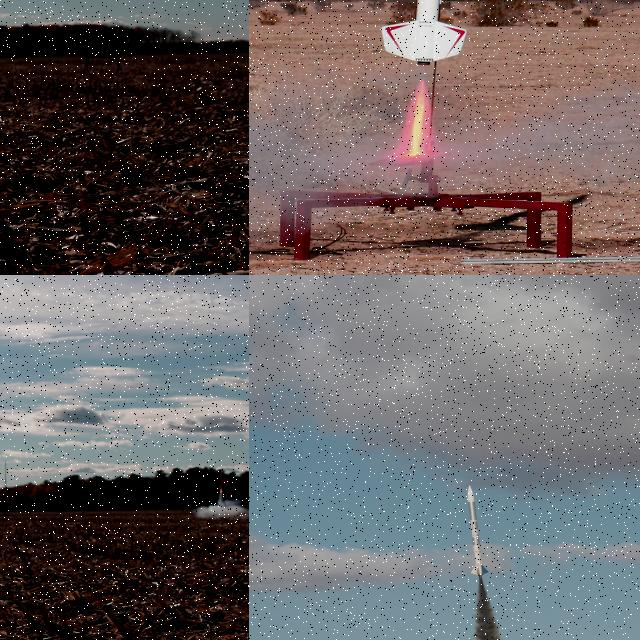Rocket: (466, 485, 488, 576), (218, 469, 225, 489)
